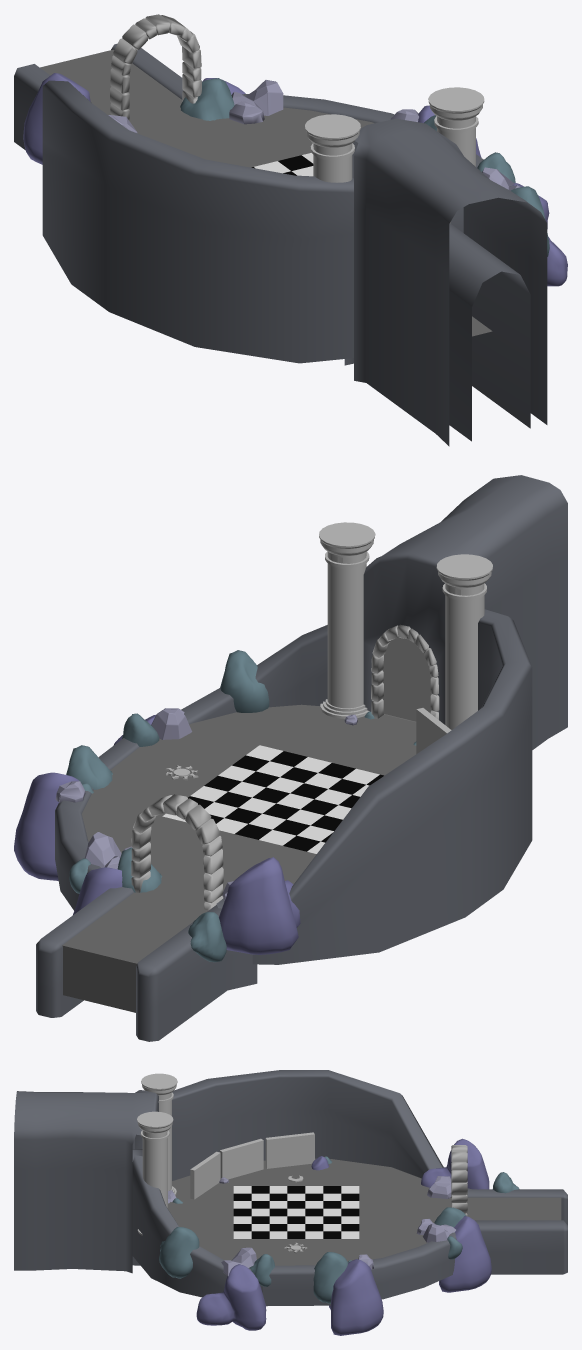
File: LunariPuzzle.fbx
The picture shows the model from 3 angles, top to bottom: view 1: azimuth 30°, elevation 25°; view 2: azimuth 150°, elevation 25°; view 3: azimuth 270°, elevation 25°; orthographic projection. The views are drawn at different scales.
Parts seen in each view (by area): view 1: wall4, wall1, water, rocks_lp1, pilar2, pilar1, wall2, rock_03_lp7, rock_02_lp1, wall7, wall6, blocky_rock_divison_lp1 (+3 smaller); view 2: wall4, water, wall1, tiles_puzzle, wall2, pilar1, pilar2, rock_02_lp1, wall5, rocks_lp1, wall6, rock_02_lp2 (+12 smaller); view 3: wall1, wall4, water, tiles_puzzle, wall5, wall6, wall7, rock_02_lp2, rock_02_lp3, rock_02_lp, pilar1, wall3 (+15 smaller).
Part boxes in pixels (x1,y1,x2,y2): wall4: (42,80,353,363); wall1: (344,118,547,446); water: (40,49,492,336); rocks_lp1: (110,14,201,119); pilar2: (305,114,360,182); pilar1: (428,87,484,223); wall2: (14,64,50,149); rock_03_lp7: (180,78,234,120); rock_02_lp1: (23,73,90,164); wall7: (242,94,394,123); wall6: (111,43,183,99); blocky_rock_divison_lp1: (231,80,283,115); wall4: (216,609,532,964); water: (62,704,416,1012); wall1: (363,475,567,749); tiles_puzzle: (162,745,383,853); wall2: (136,905,257,1041); pilar1: (319,522,375,718); pilar2: (436,554,492,729); rock_02_lp1: (219,857,300,954); wall5: (181,625,327,724); rocks_lp1: (131,794,223,910); wall6: (36,887,134,1017); rock_02_lp2: (14,772,79,880); wall1: (14,1090,158,1273); wall4: (135,1070,451,1197); water: (168,1158,561,1265); tiles_puzzle: (233,1186,359,1238); wall5: (132,1155,262,1297); wall6: (475,1220,567,1274); wall7: (371,1232,456,1299); rock_02_lp2: (329,1259,383,1335); rock_02_lp3: (196,1264,266,1330); rock_02_lp: (439,1216,491,1292); pilar1: (137,1111,173,1235); wall3: (263,1265,330,1306).
Bounding box in the file's own units: 38.78 × 22.02 × 67.11.
